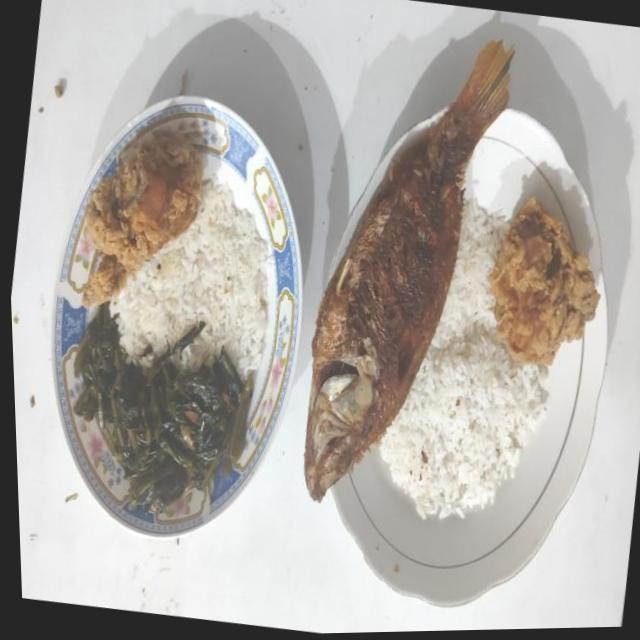ikan_mujair: (304, 41, 514, 502)
nasi_putih: (377, 200, 547, 518), (110, 179, 275, 380)
tumis_kangkung: (74, 302, 252, 512)
